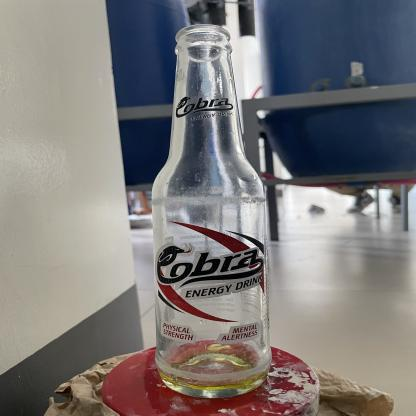Can: (143, 21, 281, 400)
